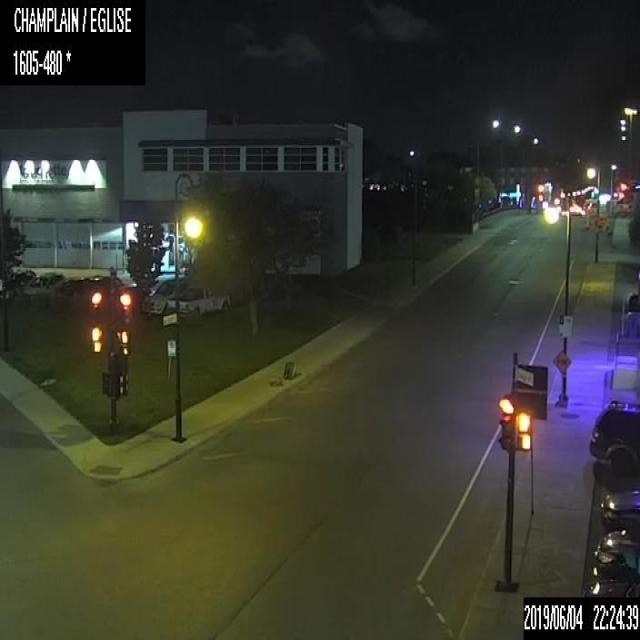construction: (551, 348, 571, 407), (268, 360, 295, 387), (40, 361, 56, 386), (591, 214, 604, 232)
vehicle: (589, 398, 639, 476), (594, 525, 639, 575), (167, 286, 230, 318), (141, 276, 188, 314), (601, 487, 639, 525), (74, 273, 124, 300), (23, 271, 65, 300), (583, 577, 639, 596), (5, 266, 36, 298), (116, 281, 154, 307), (56, 274, 88, 296)
